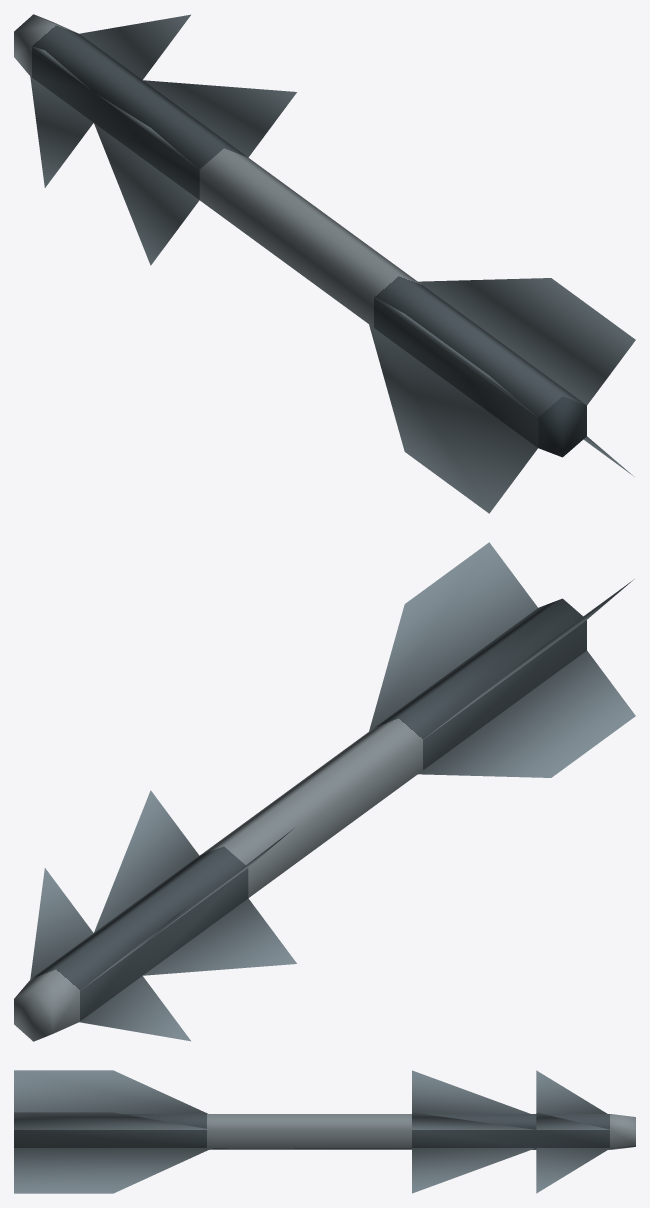
File: python-5-missile.gltf
The picture shows the model from 3 angles, top to bottom: view 1: azimuth 30°, elevation 25°; view 2: azimuth 150°, elevation 25°; view 3: azimuth 270°, elevation 25°; orthographic projection. The views are drawn at different scales.
Parts seen in each view (by area): view 1: missile_mesh; view 2: missile_mesh; view 3: missile_mesh.
Boxes of the visible parts, x1,y1,x2,y2 form: missile_mesh: [14, 14, 635, 513]; missile_mesh: [14, 542, 635, 1041]; missile_mesh: [14, 1070, 635, 1193].
Size of the model in its own units: 0.125 by 0.1125 by 0.7812.
Materials: 1 (1 with a texture image).
